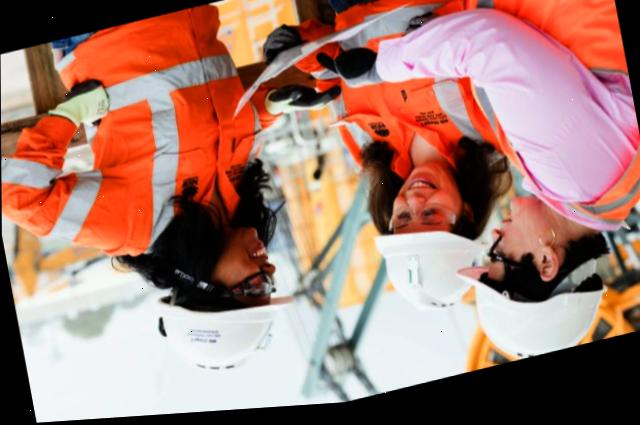helmet: (453, 238, 610, 378), (153, 276, 295, 387), (373, 220, 483, 330)
vest: (60, 12, 265, 256), (465, 0, 640, 225), (329, 0, 496, 203)
